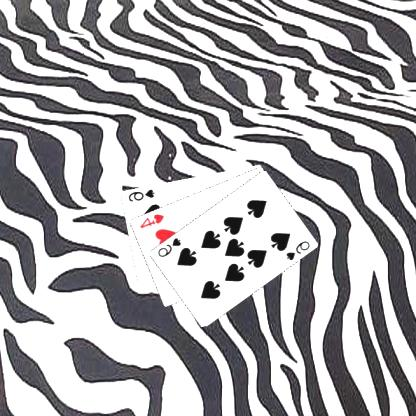4H: (139, 211, 167, 230)
6S: (127, 186, 158, 203)
9S: (156, 235, 184, 258), (285, 238, 313, 261)
